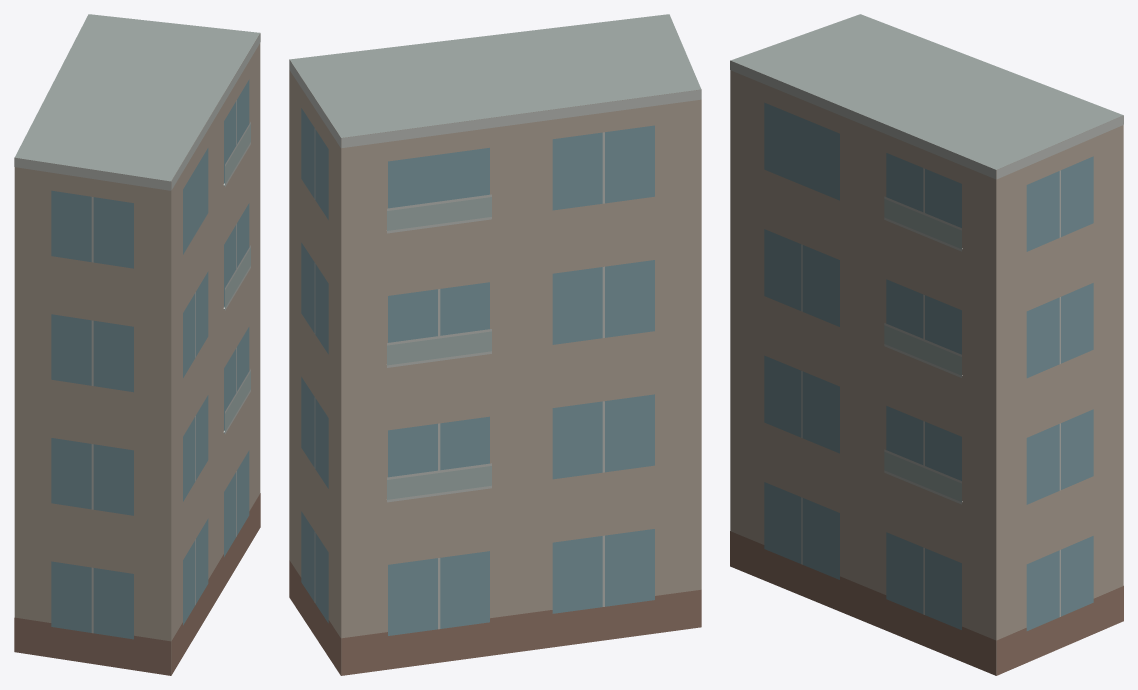
Rendered from survey-upis-32995706.glb.
3 renders of one model, left to right at view 1: azimuth 30°, elevation 25°; view 2: azimuth 150°, elevation 25°; view 3: azimuth 270°, elevation 25°, orthographic. The views are drawn at different scales.
Parts seen in each view (by area): view 1: survey-upis-32995706.tmp; view 2: survey-upis-32995706.tmp; view 3: survey-upis-32995706.tmp.
Part boxes in pixels (<box>): survey-upis-32995706.tmp: <box>14,14,260,675</box>; survey-upis-32995706.tmp: <box>289,14,701,675</box>; survey-upis-32995706.tmp: <box>730,14,1123,675</box>.
Bounding box in the file's own units: 8.47 × 12.8 × 9.03.
